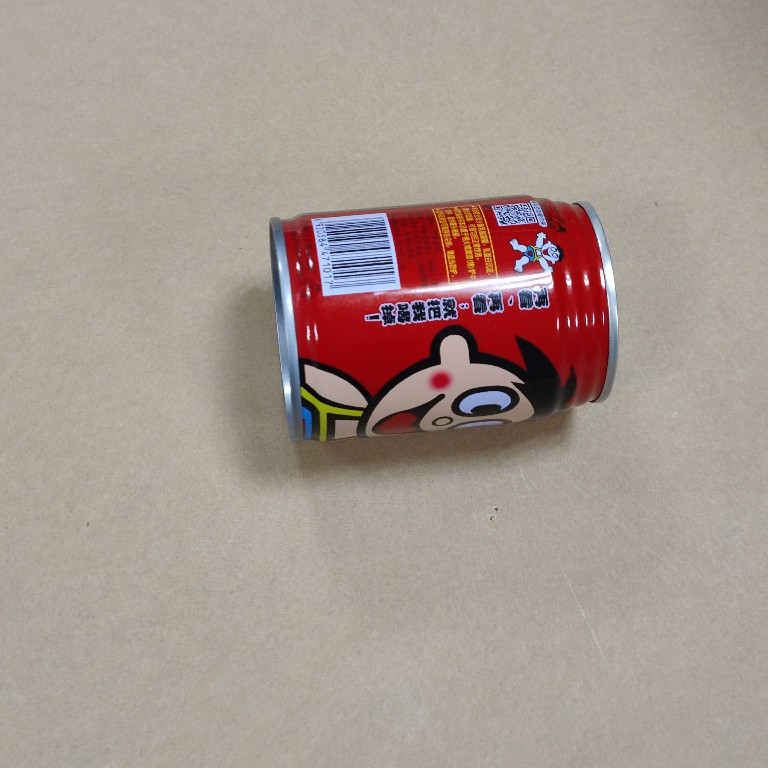can: (264, 192, 623, 442)
